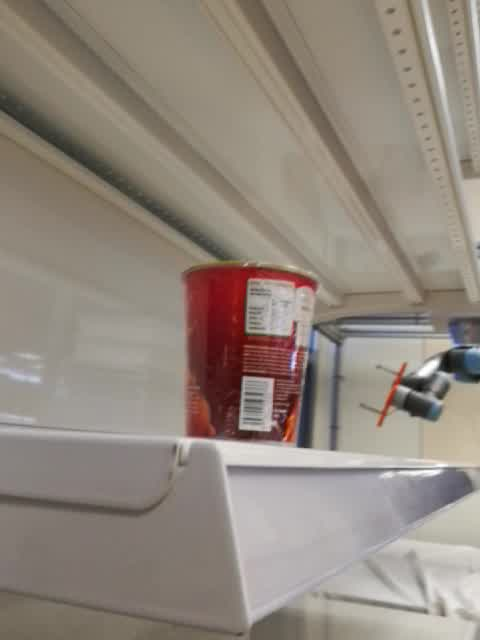maggi: (180, 260, 320, 449)
